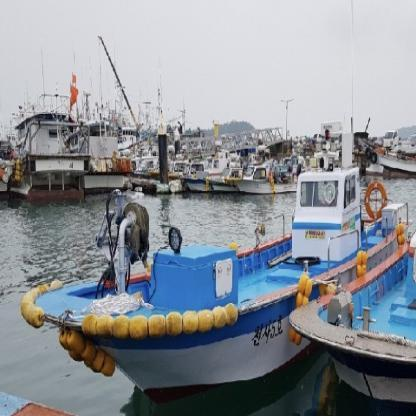Ship: (18, 156, 415, 407)
